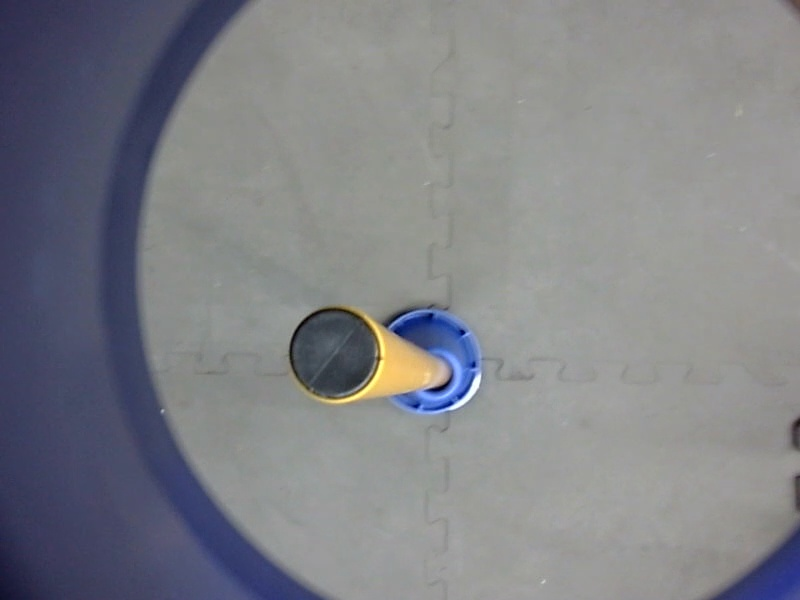tip: (283, 300, 393, 405)
